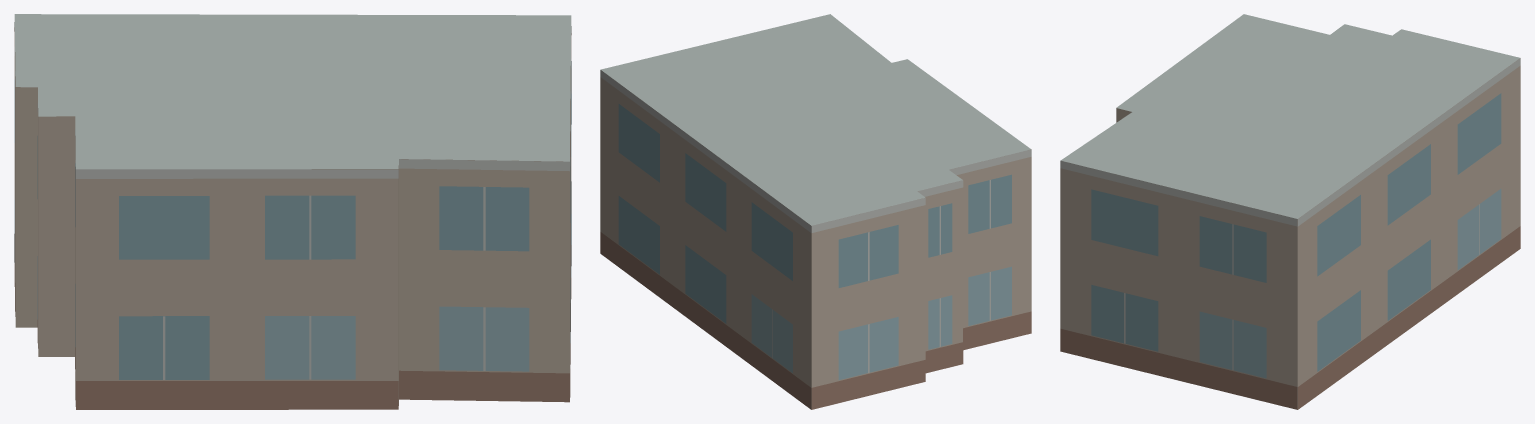
File: survey-upis-32779432.glb
The picture shows the model from 3 angles, left to right: view 1: azimuth 30°, elevation 25°; view 2: azimuth 150°, elevation 25°; view 3: azimuth 270°, elevation 25°; orthographic projection. The views are drawn at different scales.
Visible parts, largest first — view 1: survey-upis-32779432.tmp; view 2: survey-upis-32779432.tmp; view 3: survey-upis-32779432.tmp.
Boxes of the visible parts, x1,y1,x2,y2 form: survey-upis-32779432.tmp: (14,14,571,409); survey-upis-32779432.tmp: (600,14,1031,409); survey-upis-32779432.tmp: (1060,14,1520,409).
Size of the model in its own units: 14.06 by 6.1 by 13.34.
